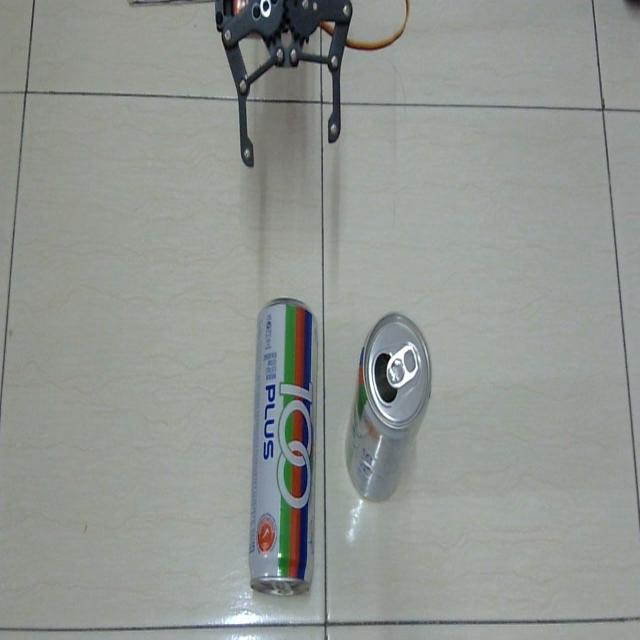Metal-laydown_0-rotation: (246, 285, 320, 605)
Metal-stand-rotation: (343, 307, 441, 508)
